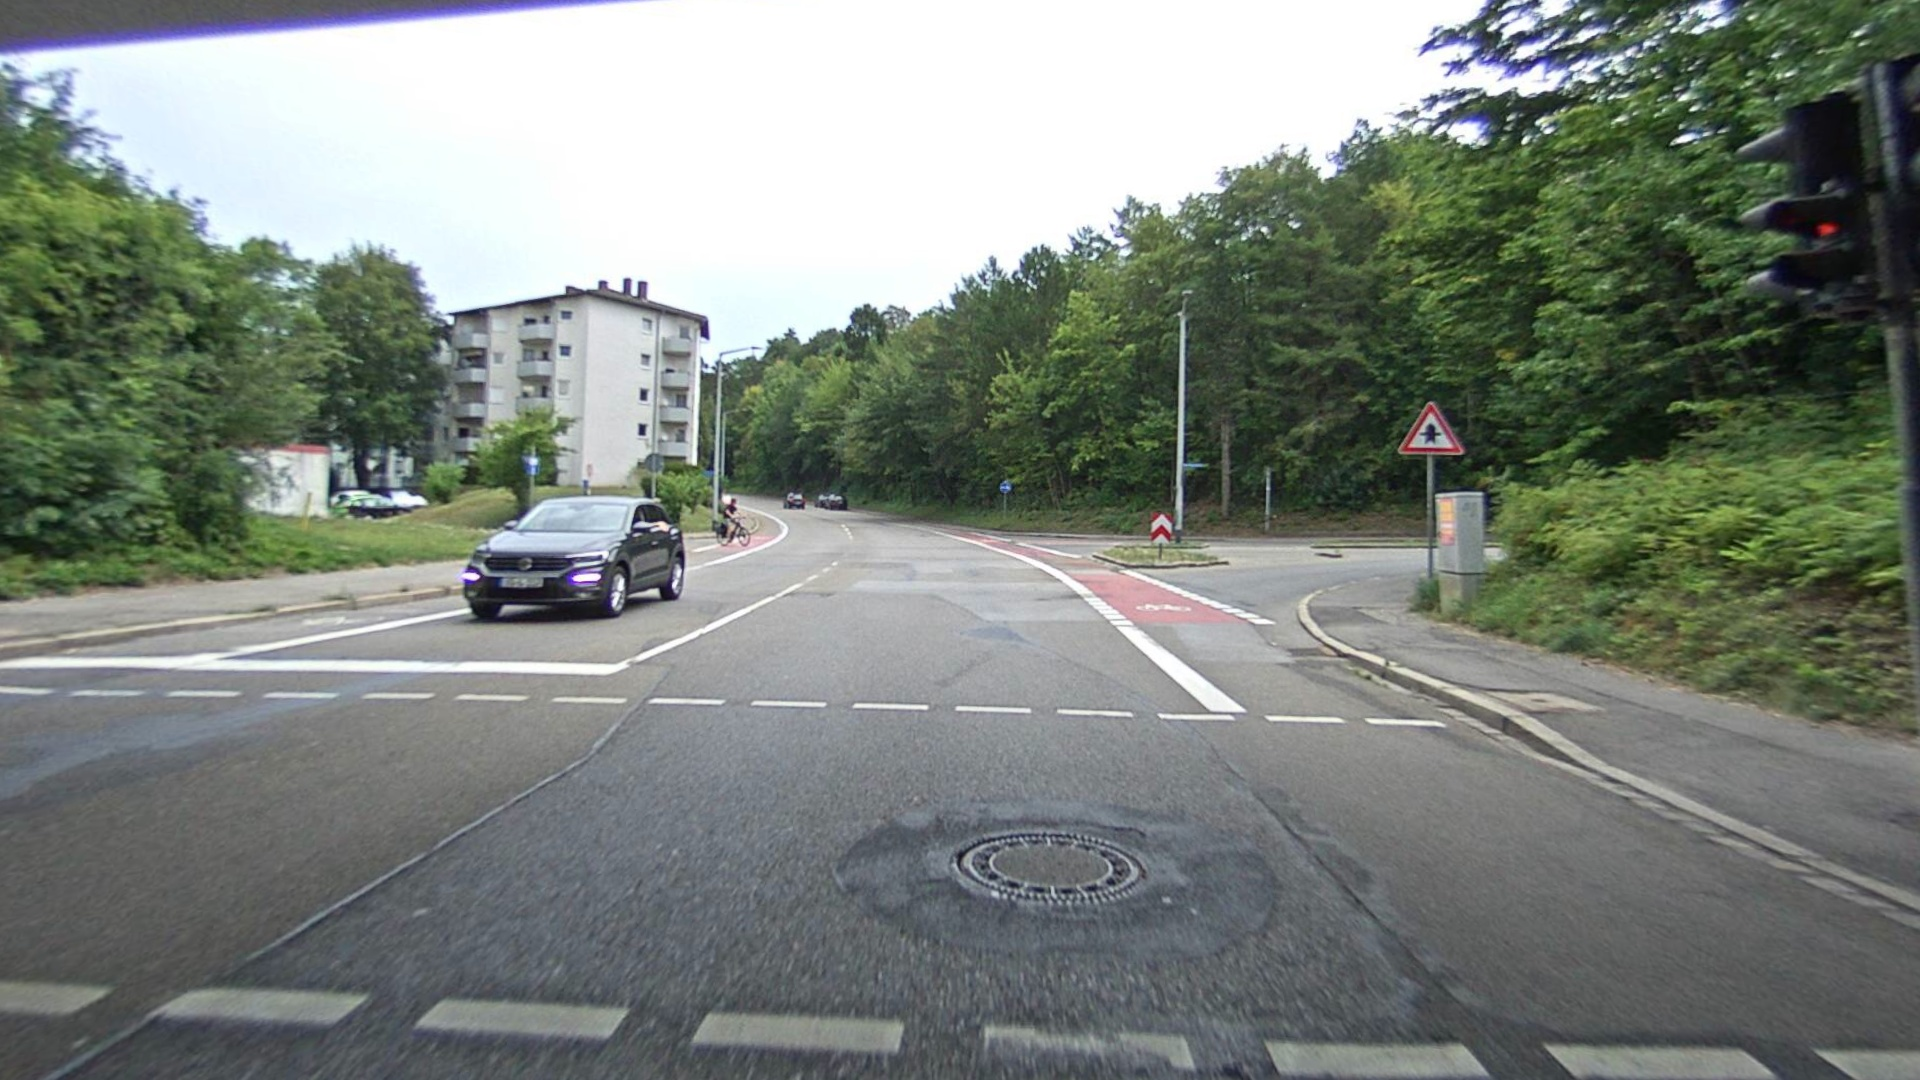car: (460, 495, 688, 618)
